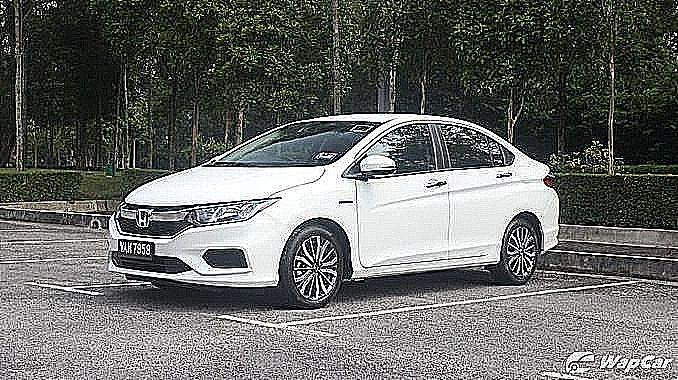Car hood: (122, 163, 327, 207)
Fender - -F-L-: (262, 163, 359, 272)
Fender - -R-L-: (501, 163, 553, 259)
Front bumper: (94, 219, 299, 295)
Headlight - -L-: (183, 193, 283, 231)
Headlight - -R-: (109, 199, 133, 220)
Passenger-s door - -F-L-: (358, 119, 449, 270)
Passenger-s door - -R-L-: (450, 120, 521, 263)
Rear bumper: (538, 192, 564, 258)
Rear light - -L-: (534, 164, 560, 193)
Side bumper - -L-: (349, 251, 504, 283)
Side mirror - -L-: (356, 153, 402, 184)
